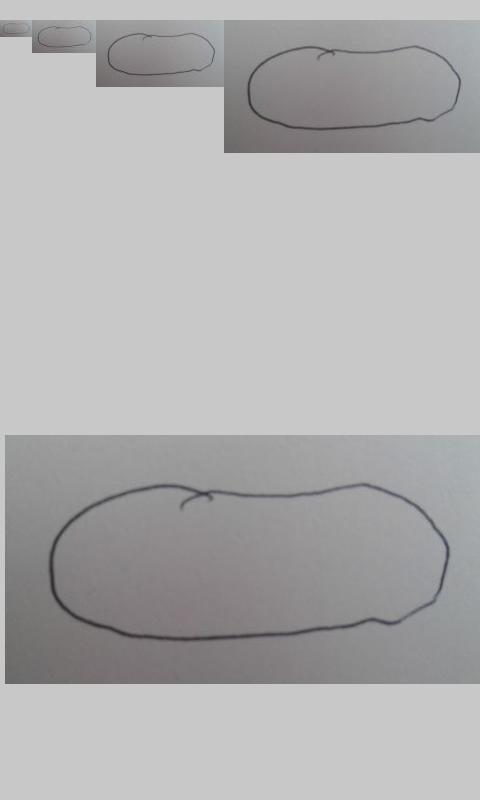chip: (49, 482, 451, 642), (247, 45, 462, 131), (107, 33, 215, 76), (37, 26, 92, 48), (2, 22, 31, 35)
